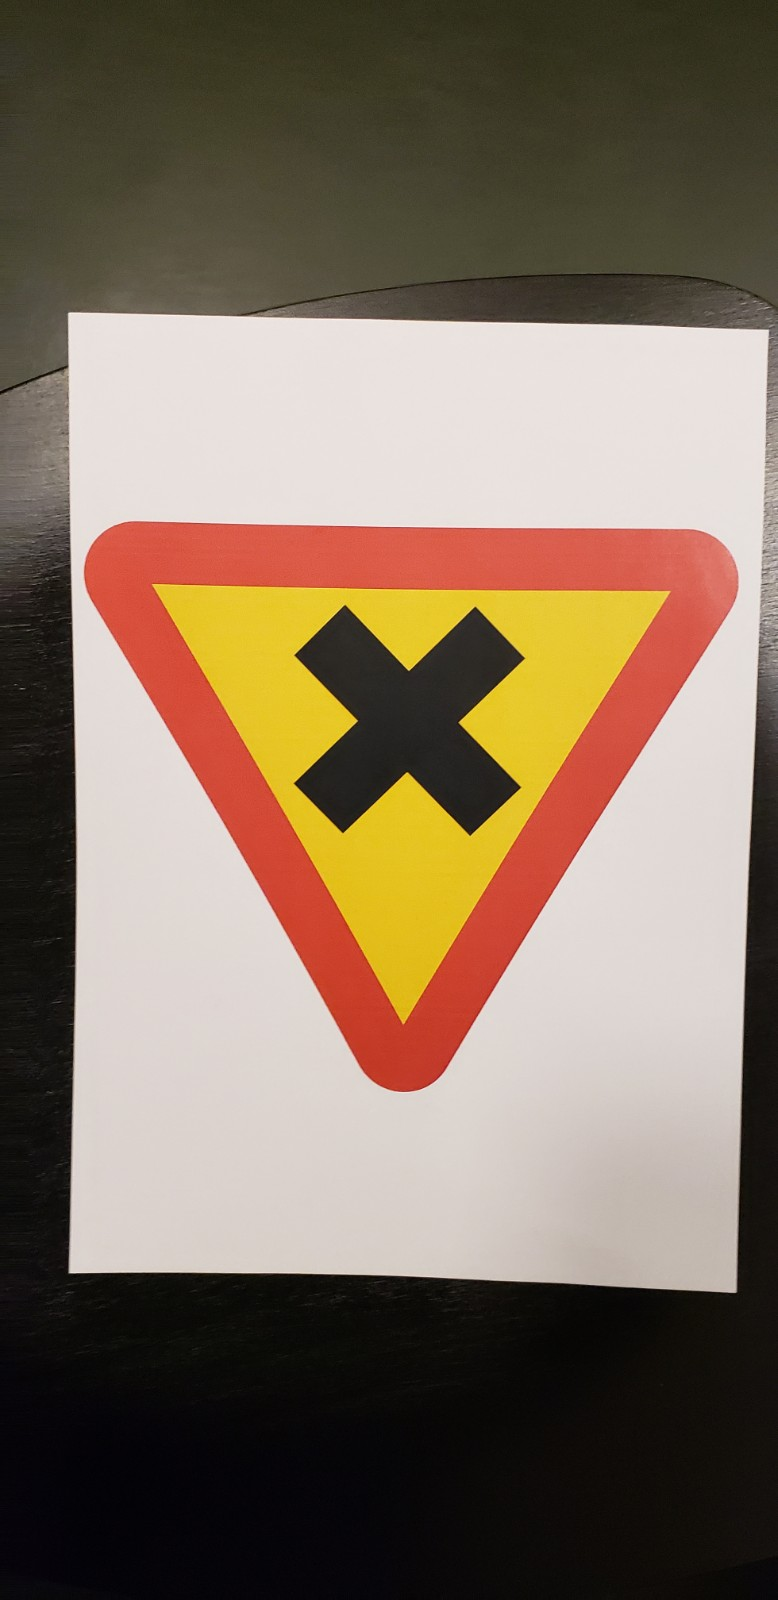junction: (68, 503, 727, 1153)
